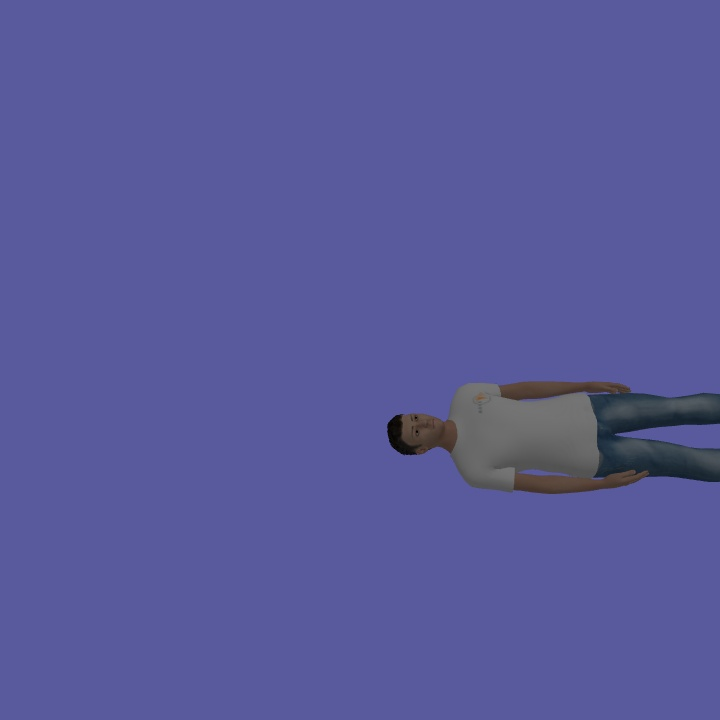victim: (384, 373, 720, 496)
